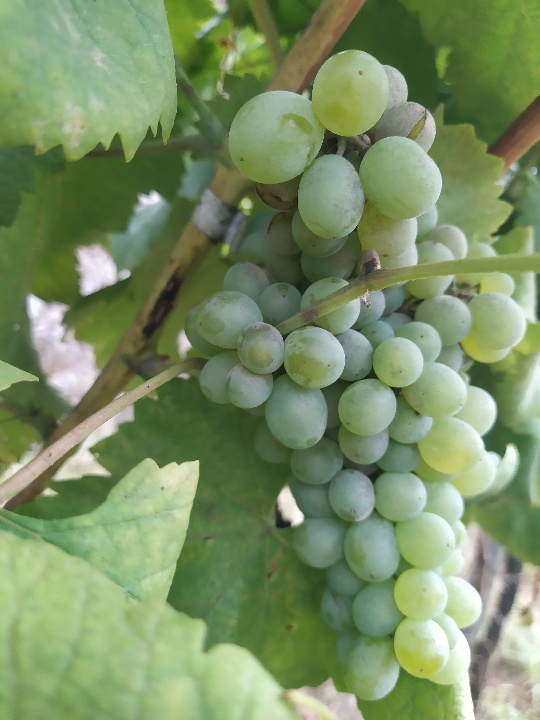grape: (184, 48, 529, 698)
